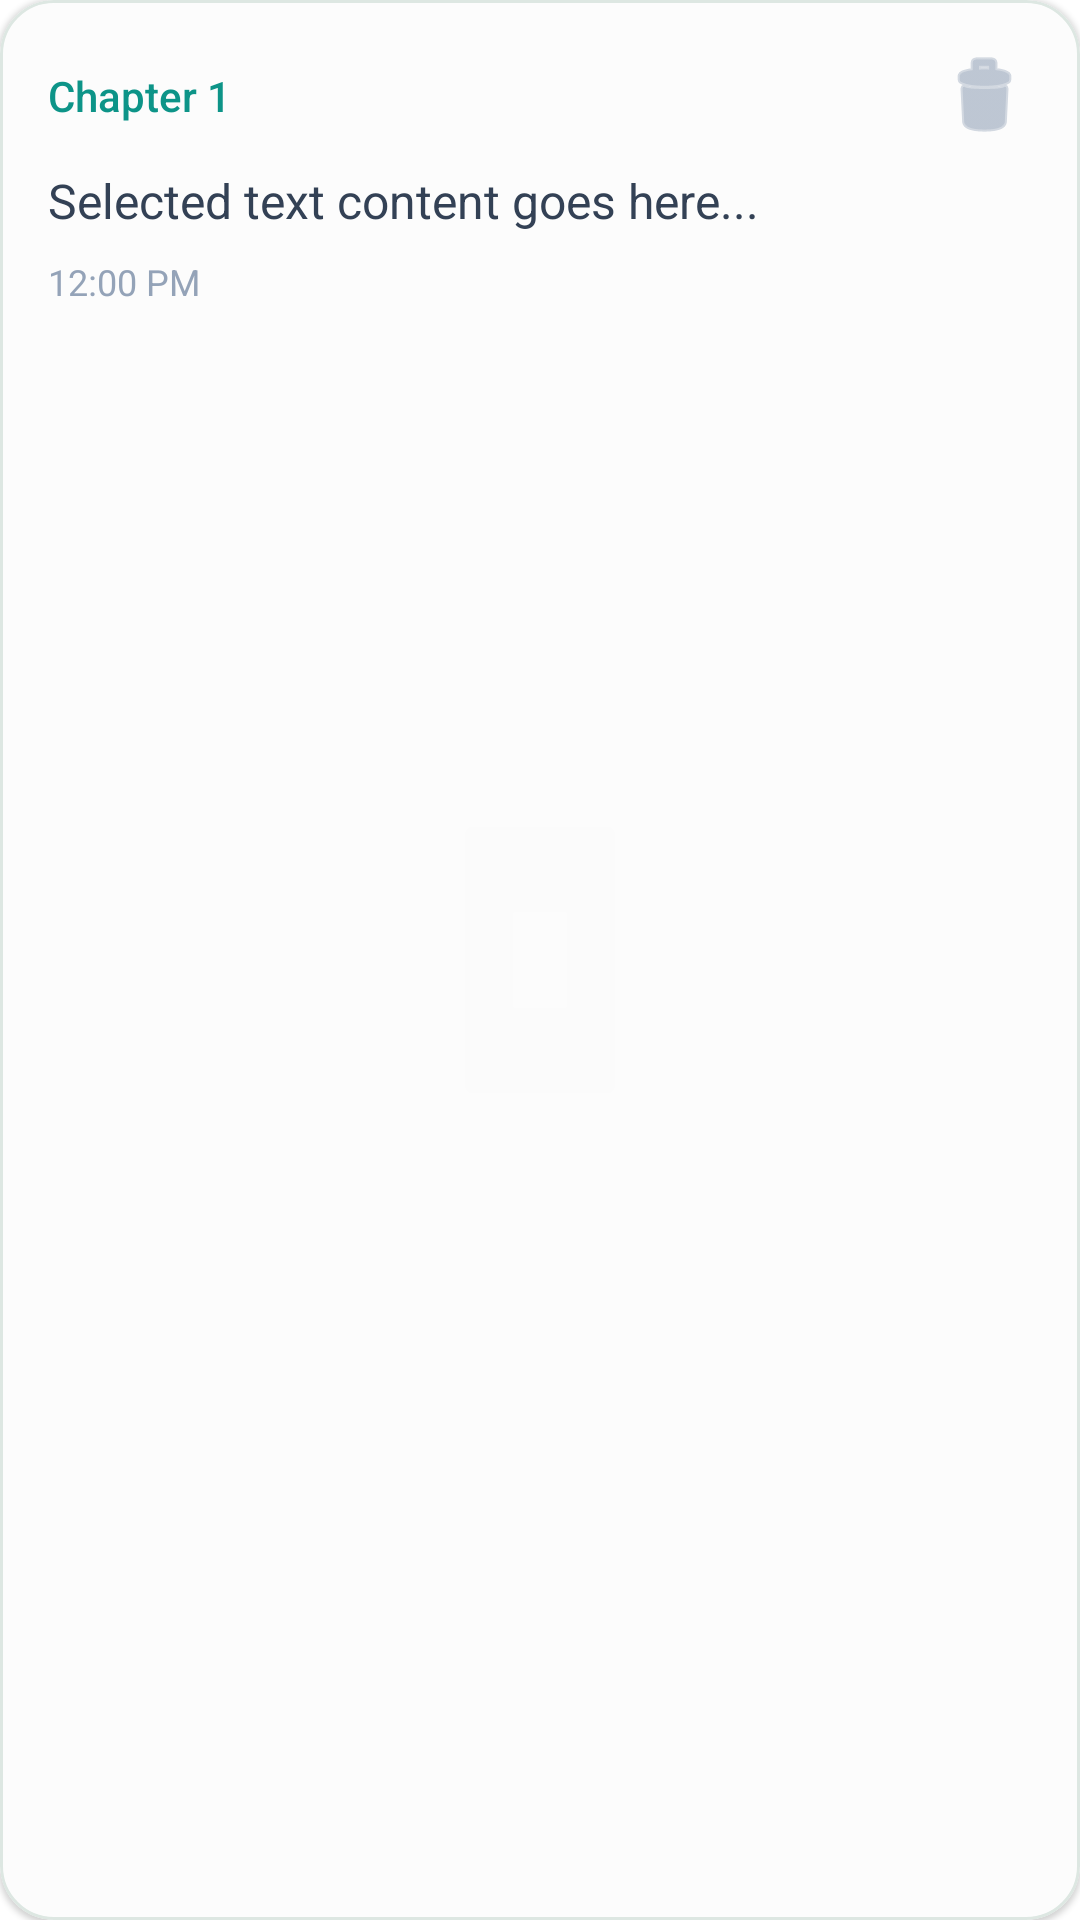

Where to tap for icons on this 1080px x 1920px app screen, as (x,y):
delete: (984,94)
